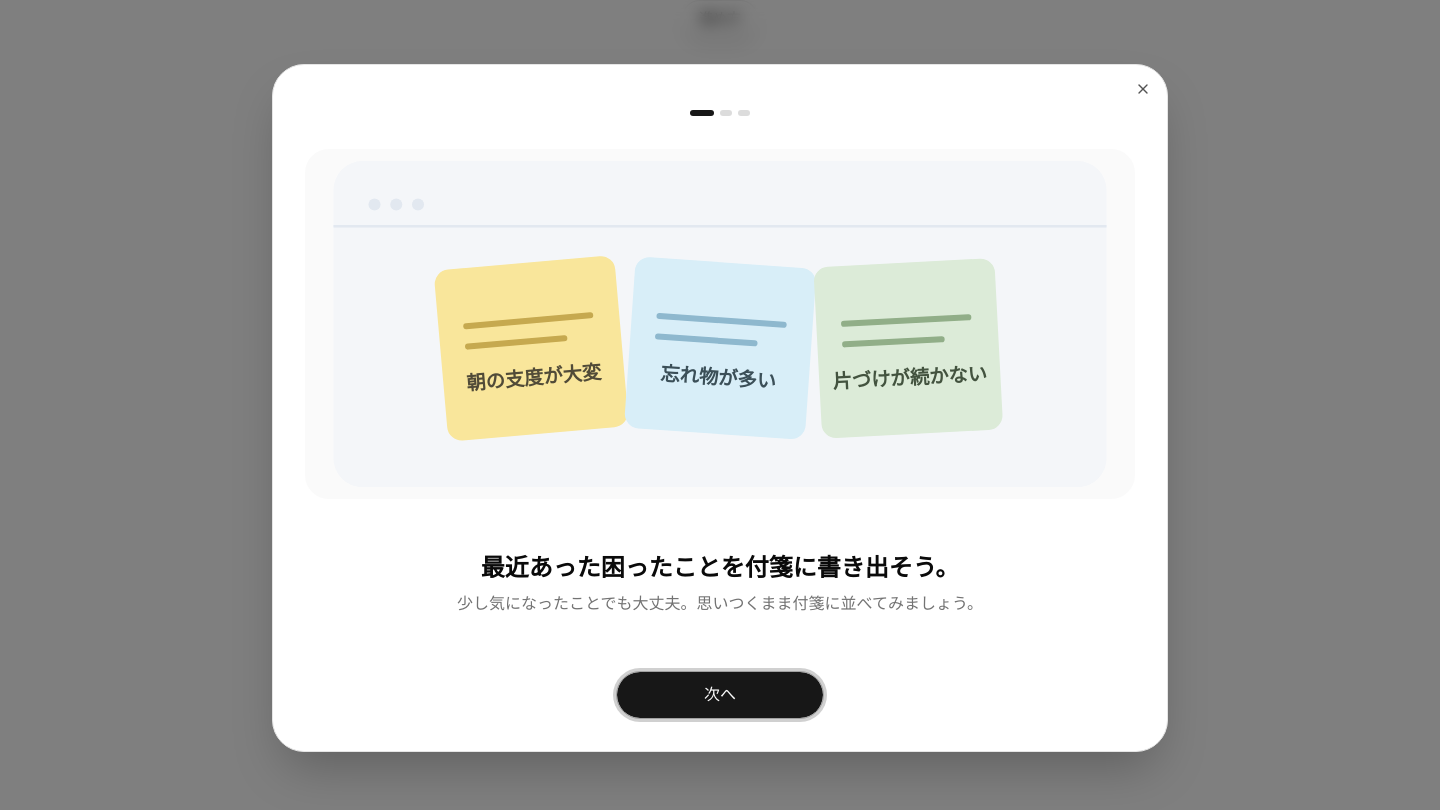
Scenario: StepOneOnboardingSlide › StrictModeでも初回案内を表示し、閉じた後の再マウントでは自動表示しない
Expected: the dialog is shown, left=272, top=64, right=1168, bottom=752
Click the button named "閉じる".
click(1143, 89)  # box left=1135, top=81, right=1151, bottom=97
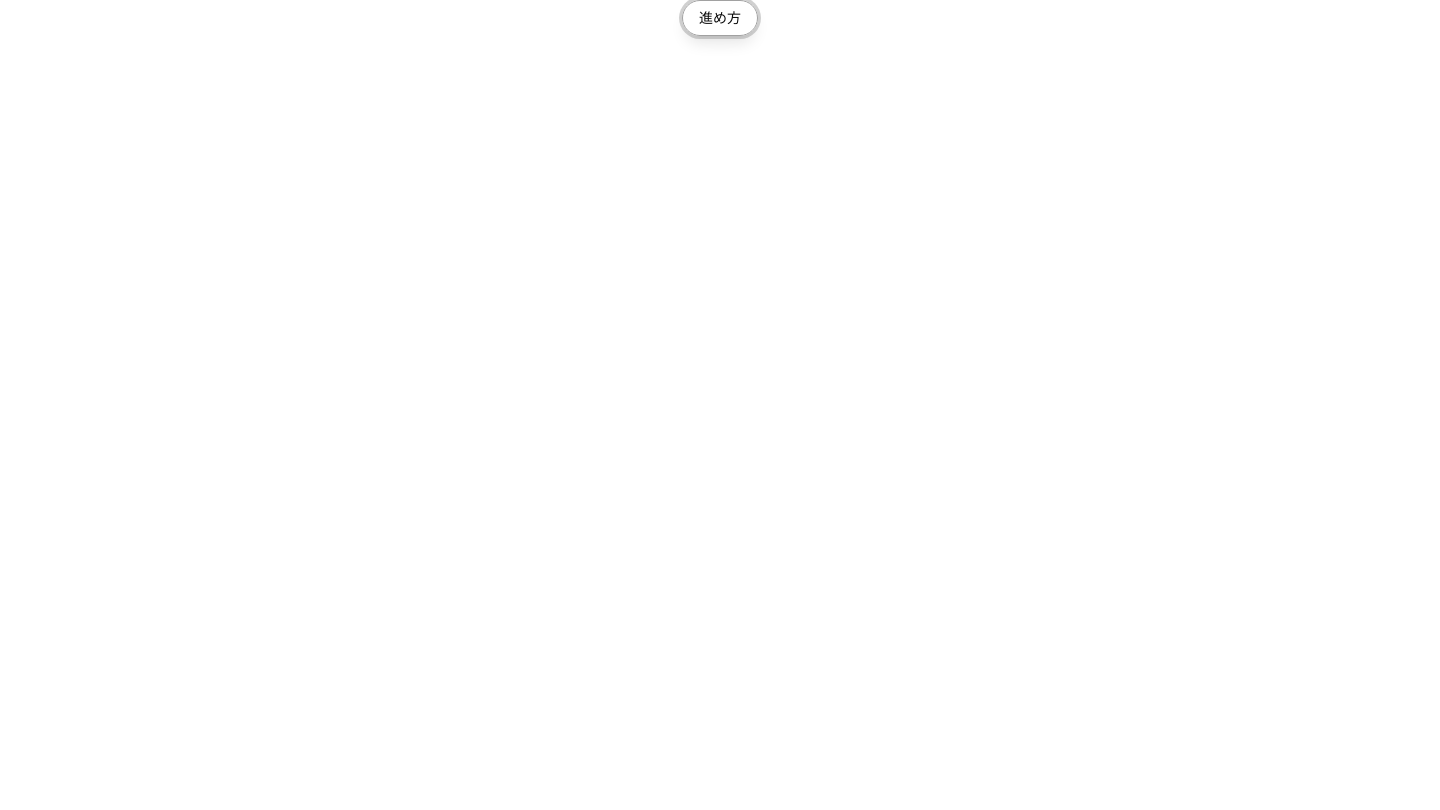
Expected: the dialog is gone
